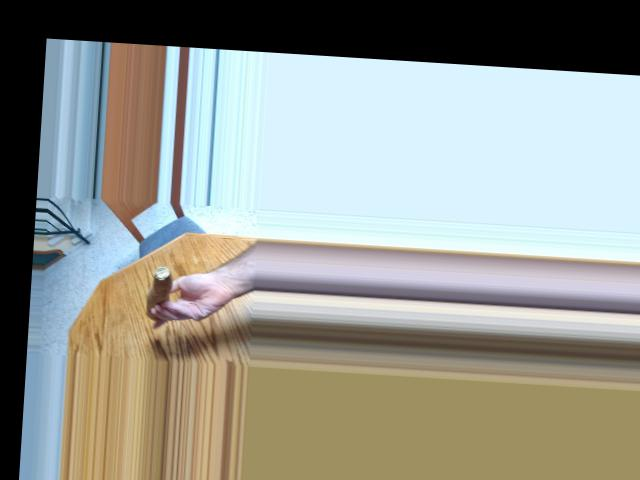sweet_potato: (144, 272, 165, 321)
